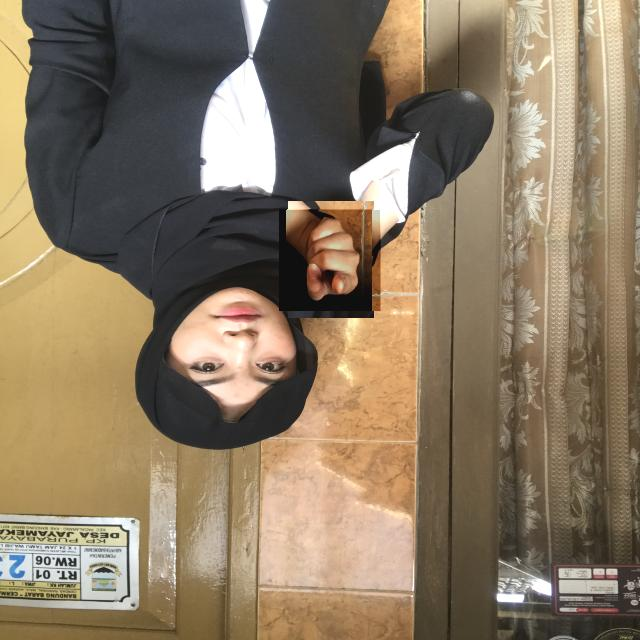kamu: (279, 208, 382, 310)
